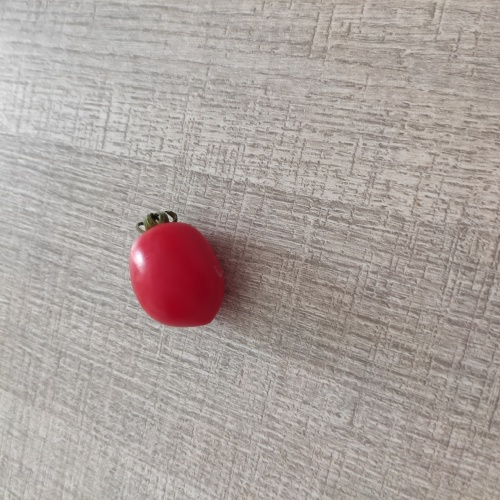pomodoro: (128, 209, 233, 334)
